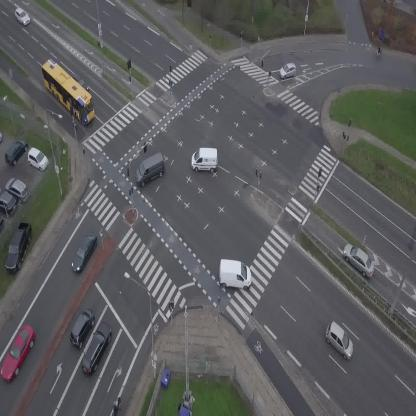bicycle: (111, 396, 123, 416), (371, 44, 385, 59)
bus: (33, 56, 104, 127)
car: (0, 322, 40, 383), (77, 320, 117, 378), (319, 320, 361, 362), (337, 240, 380, 280), (67, 230, 101, 275), (65, 305, 99, 349), (12, 6, 33, 27), (72, 72, 92, 94), (277, 62, 298, 80)
lorry: (130, 152, 170, 188), (219, 259, 252, 290), (191, 148, 218, 172)
